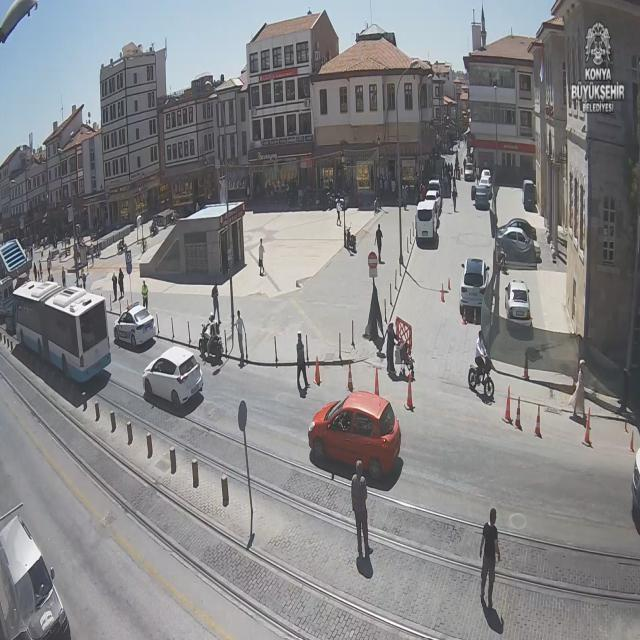Bus: (12, 279, 112, 386)
Car: (306, 387, 403, 482), (142, 345, 204, 406), (114, 301, 158, 349), (459, 255, 492, 310), (503, 279, 534, 330)
Cycle: (466, 361, 499, 402)
